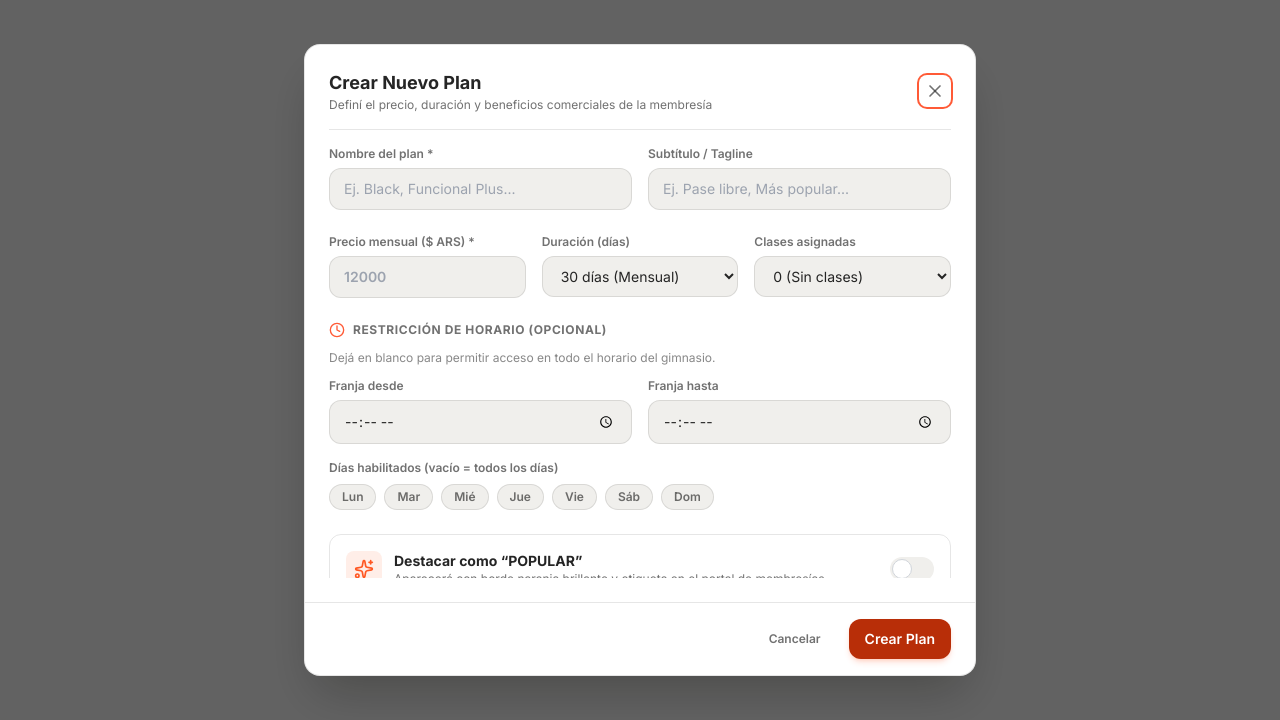
Test: PlanFormModal › shows inline error when precio is negative on submit
Type "Mi Plan" into the field with placeholder "Ej. Black, Funcional Plus...". click: (480, 189)
box: [329, 168, 632, 210]
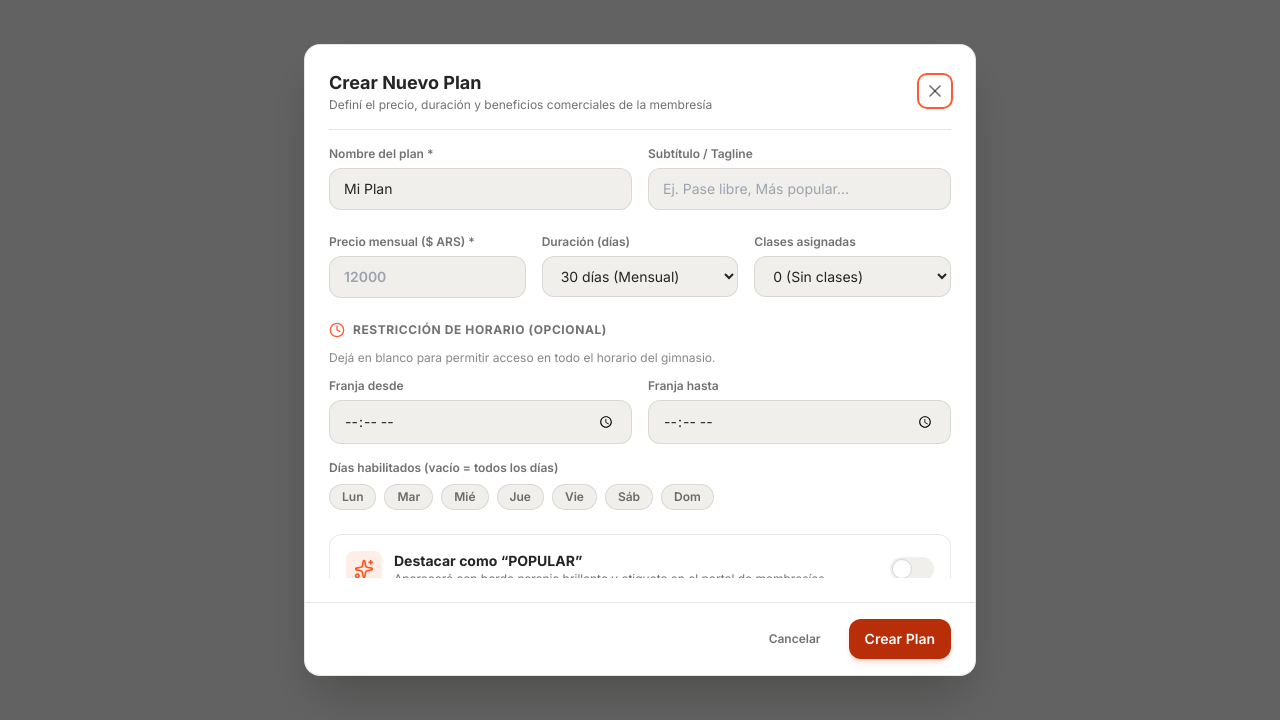
Type "-500" into the number field with placeholder "12000". click: (427, 277)
box: [329, 256, 526, 298]
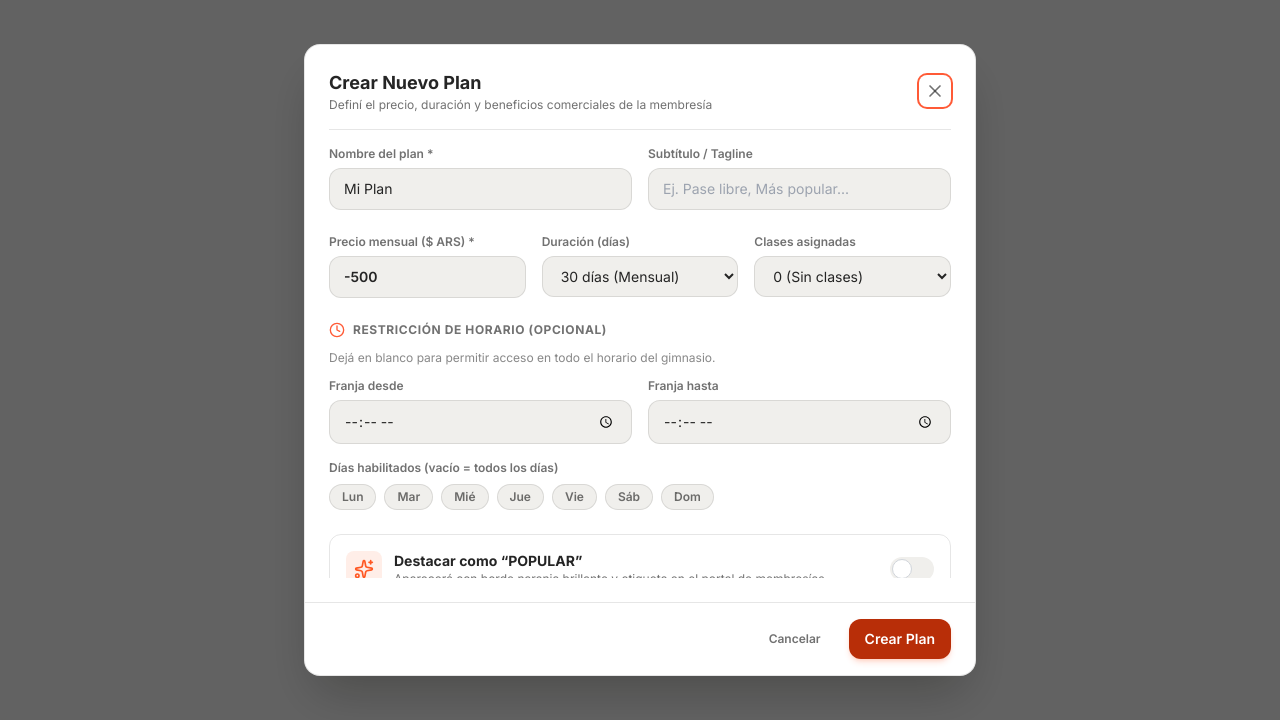
Click the button "Crear Plan". click: (900, 639)
box: [849, 619, 951, 659]
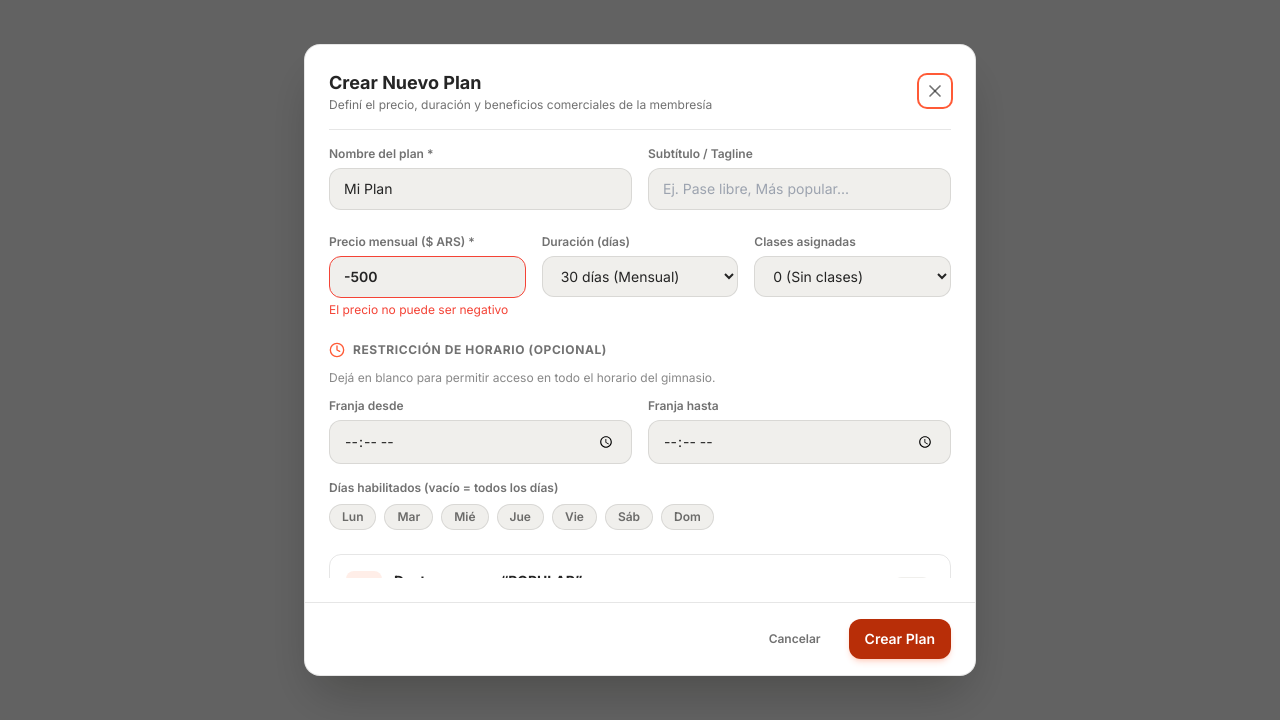
Expected: the text "El precio no puede ser negativo" is shown, [329, 302, 526, 318]
